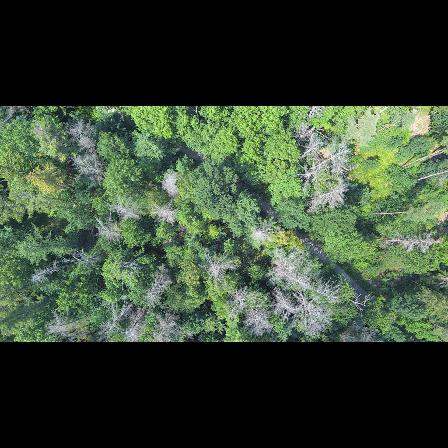Dead: (283, 271, 337, 298), (298, 294, 332, 333), (375, 234, 444, 252), (67, 121, 102, 156), (68, 153, 107, 184), (30, 260, 76, 286), (199, 253, 235, 286), (98, 303, 129, 339), (309, 185, 348, 211), (147, 268, 174, 302), (52, 248, 102, 266), (91, 214, 125, 240), (106, 195, 140, 220), (152, 314, 182, 342), (244, 305, 275, 332), (243, 224, 278, 245), (151, 200, 178, 227), (123, 312, 147, 342), (312, 149, 349, 168), (349, 291, 373, 315), (161, 167, 180, 196), (274, 293, 298, 313), (294, 124, 316, 144), (271, 257, 294, 270)
